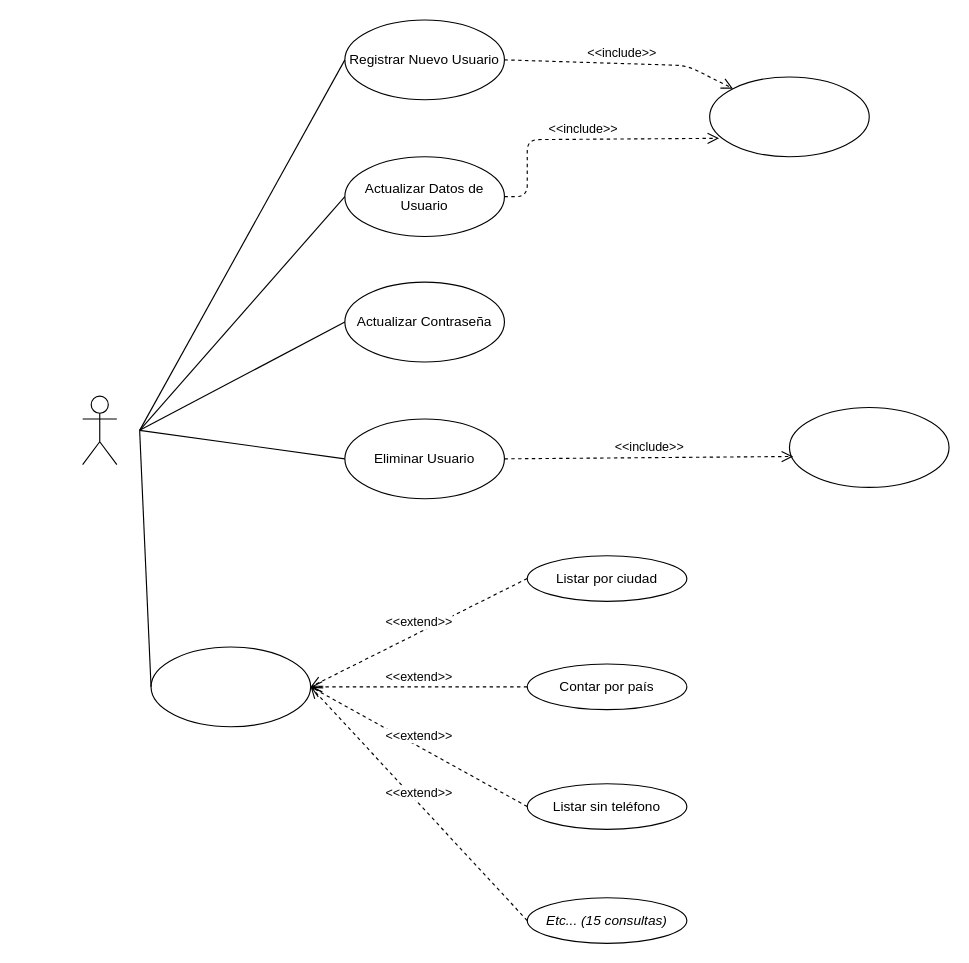
Some shapes in this 969 by 963 pixel diagram are drawn without their labels. Here are the shapes that lost their labels. From the top down, the box of each, then its label:
(709, 76, 869, 157): Verificar Unicidad de Email y Username
(82, 395, 117, 465): Administrador del Sistema
(788, 406, 949, 487): Solicitar Confirmación
(150, 646, 311, 727): Realizar Consultas y Reportes
